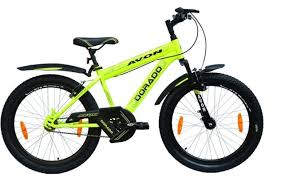cycle: (1, 7, 268, 172)
